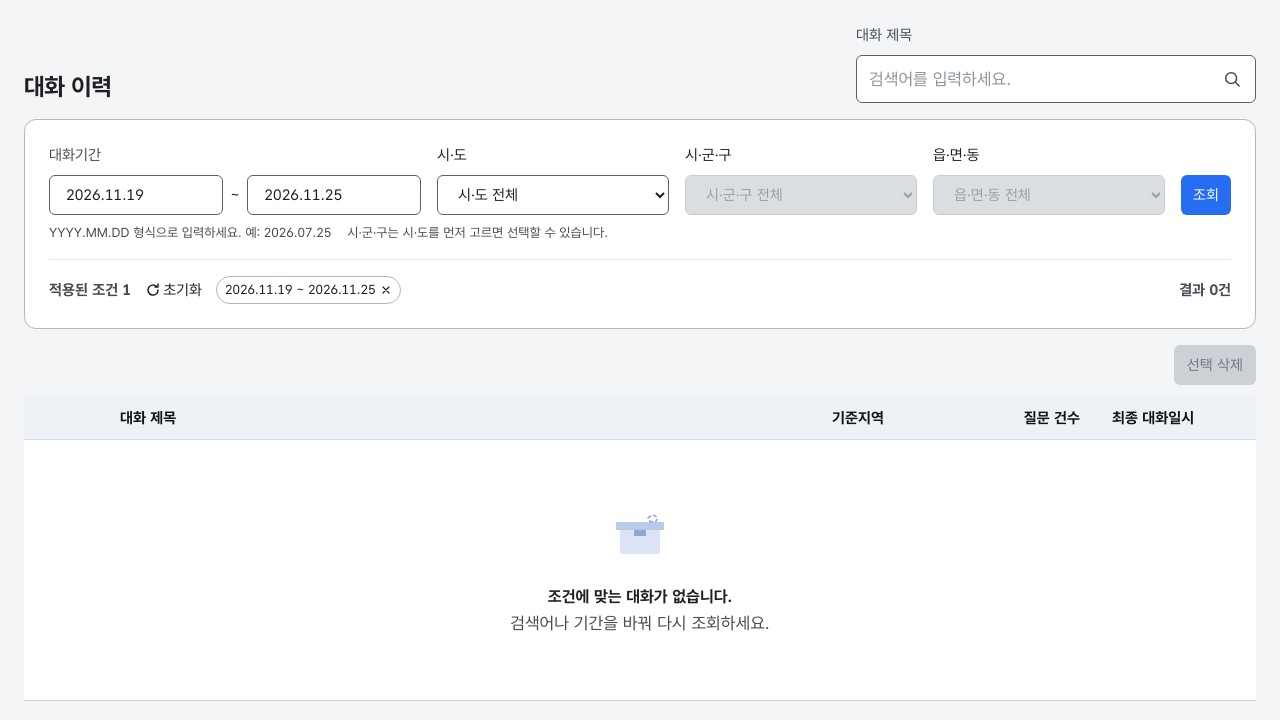
Test: 대화 이력 목록 › 대화가 하나도 없고 조건도 없으면 「대화 이력이 없습니다.」
Click the button named "조건 해제". click: (308, 290)
box: [216,276,400,304]
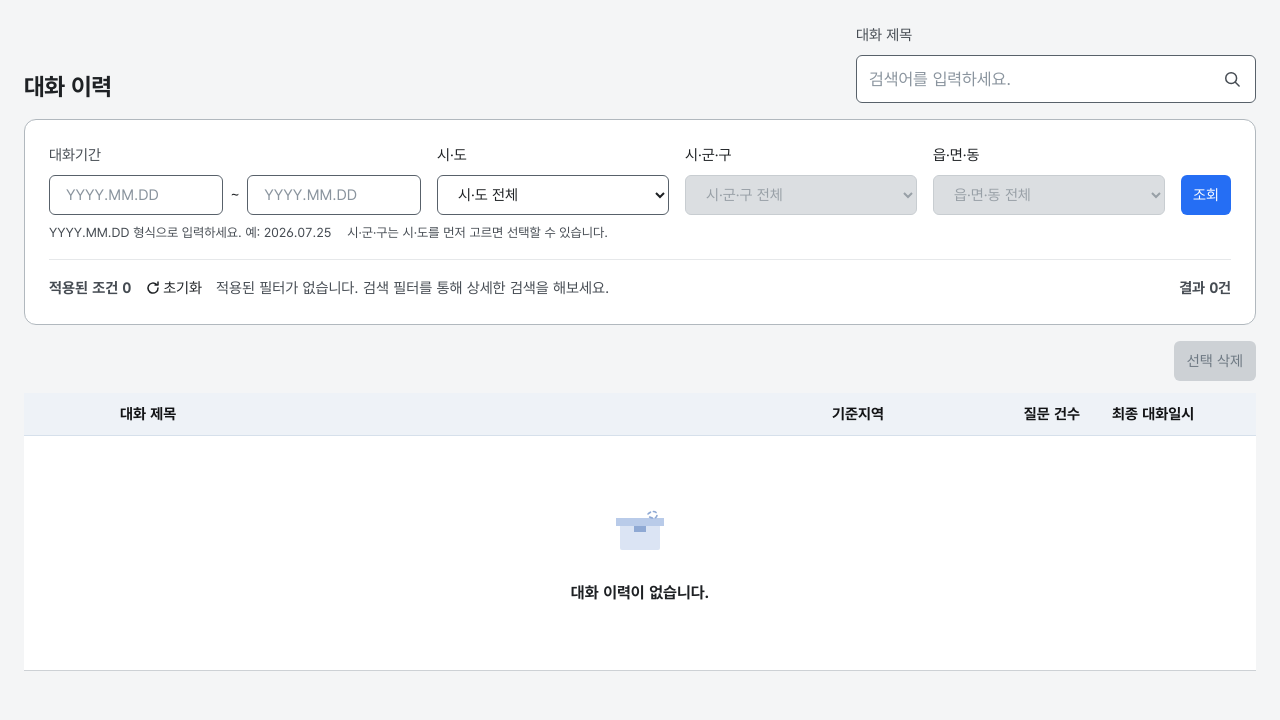
Expected: the text "대화 이력이 없습니다." is shown, [571,583,709,602]
